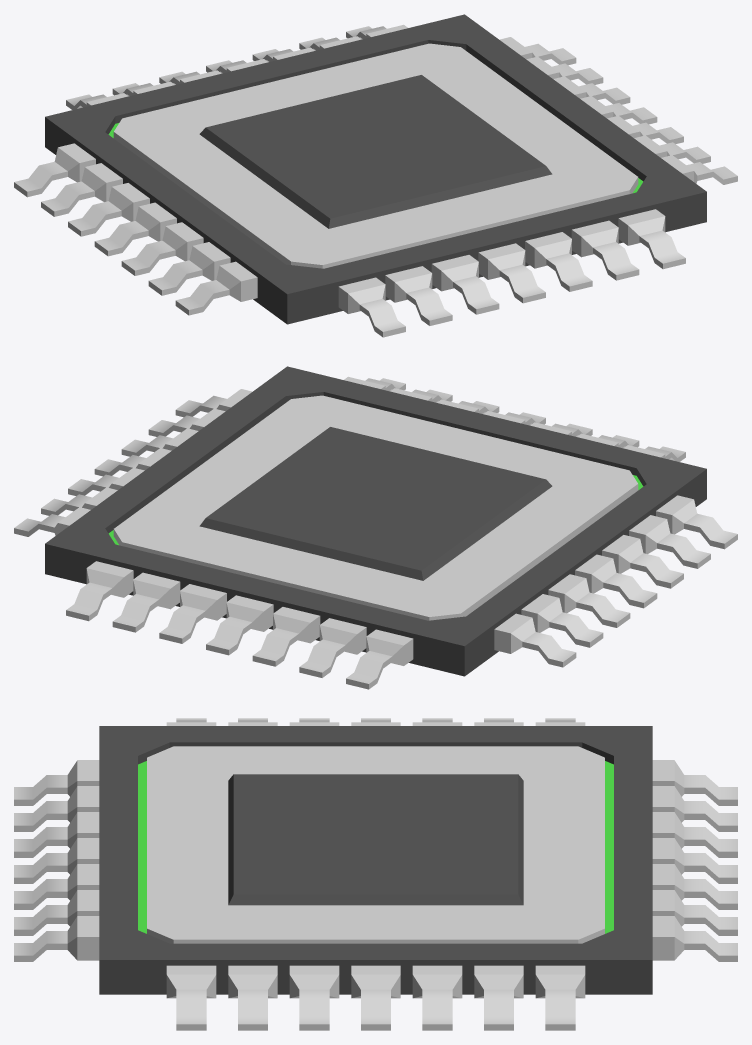
The model's file is CPU.fbx.
3 views of the same model, one above another, from view 1: azimuth 30°, elevation 25°; view 2: azimuth 150°, elevation 25°; view 3: azimuth 270°, elevation 25° (orthographic). The views are drawn at different scales.
Parts seen in each view (by area): view 1: Cube; view 2: Cube; view 3: Cube.
Boxes of the visible parts, left/top/right/bottom form: Cube: left=14, top=14, right=737, bottom=337; Cube: left=14, top=366, right=737, bottom=689; Cube: left=14, top=718, right=737, bottom=1030.
Size of the model in its own units: 759 by 759 by 50.
